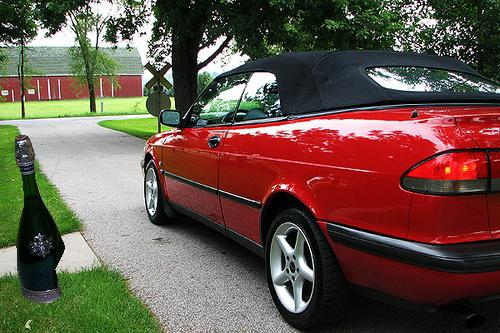tampered: (16, 136, 65, 303)
